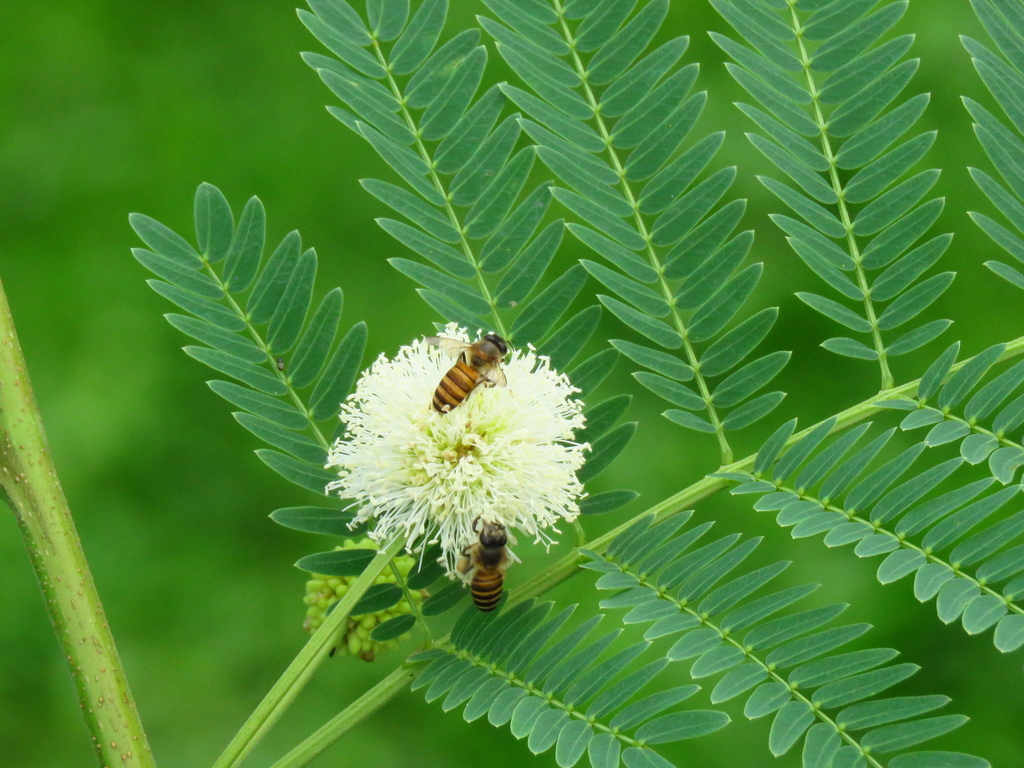not_bumblebee: (421, 328, 512, 415), (459, 515, 522, 615)
